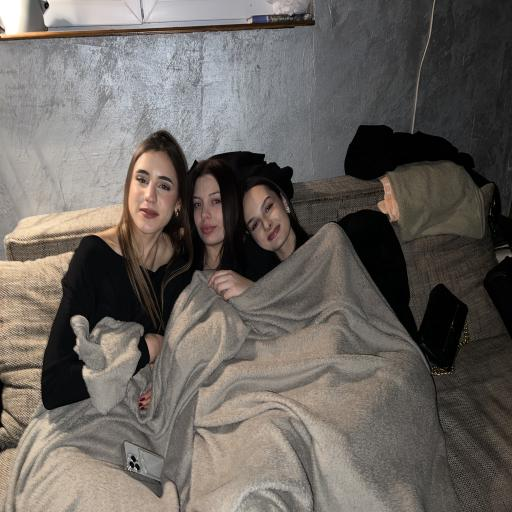marija: (243, 178, 291, 252)
masa: (126, 149, 180, 235)
